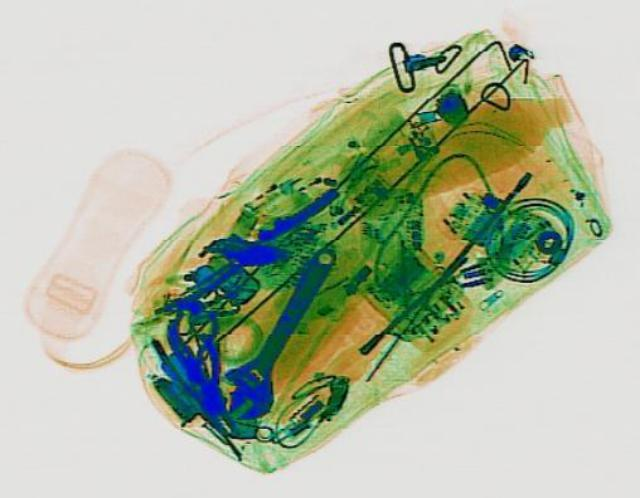Pliers: (160, 311, 238, 420)
Wrench: (201, 238, 363, 423)
